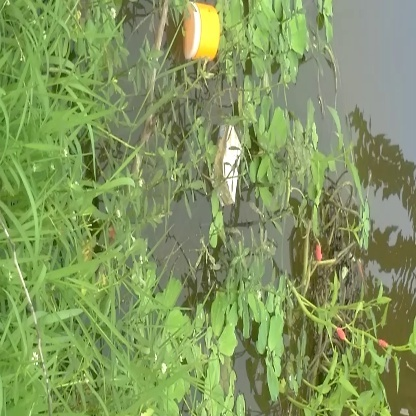milk-box: (204, 121, 253, 209)
